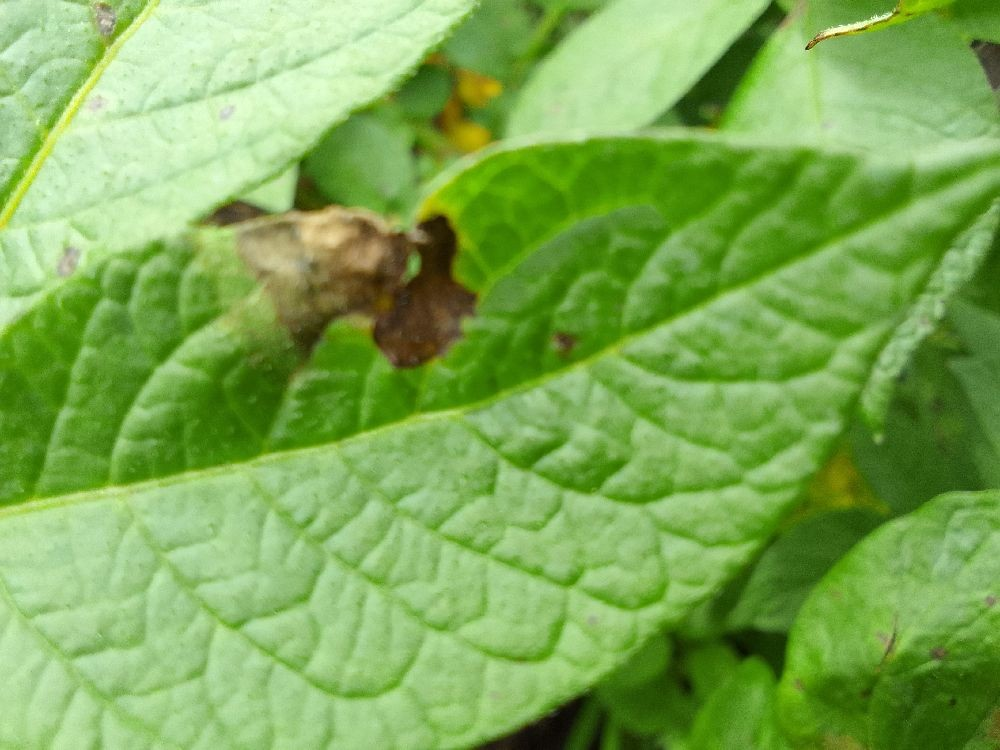late_blight: (414, 41, 507, 157)
